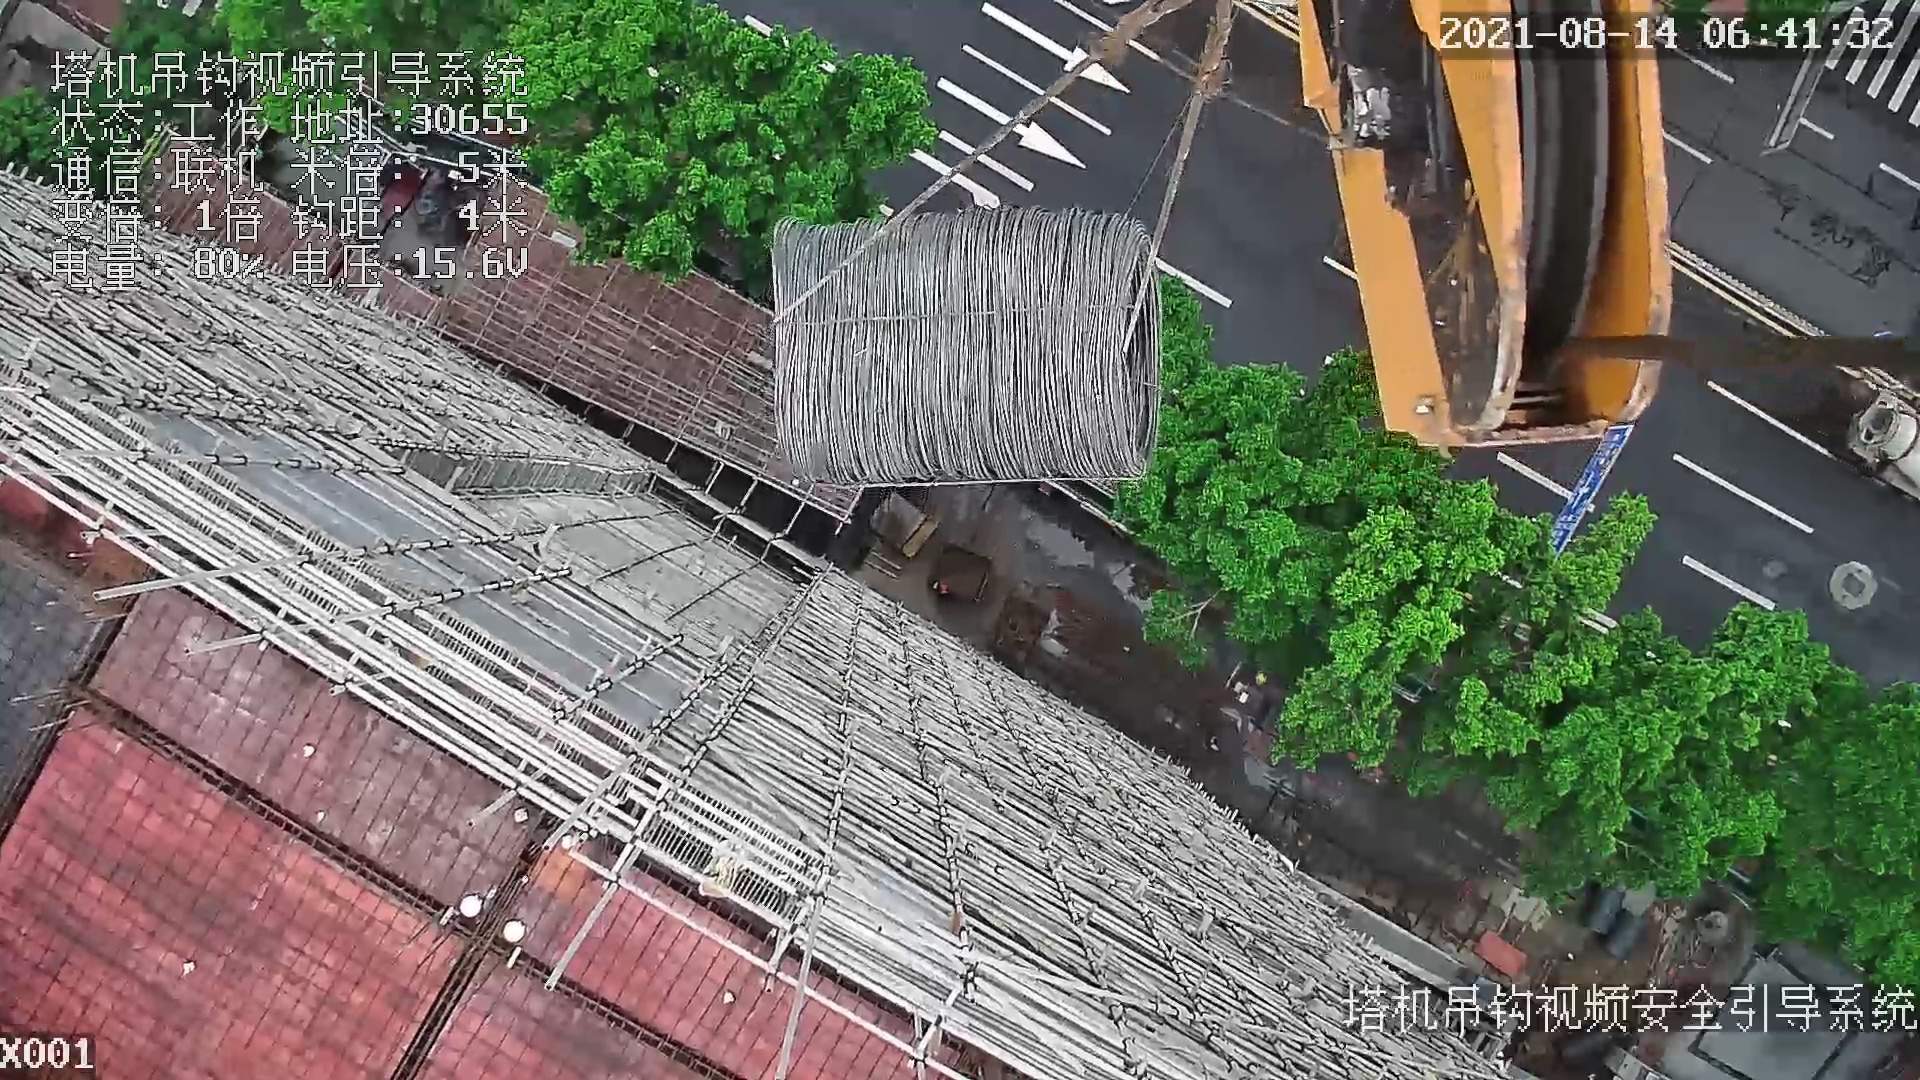hook: (1298, 1, 1673, 430)
